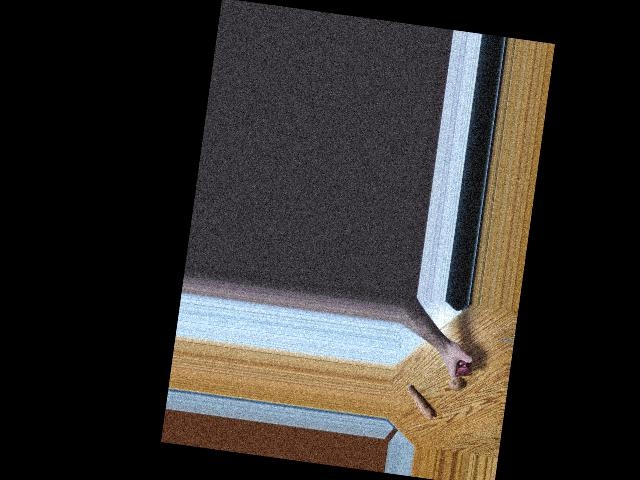onion: (447, 373, 465, 393)
